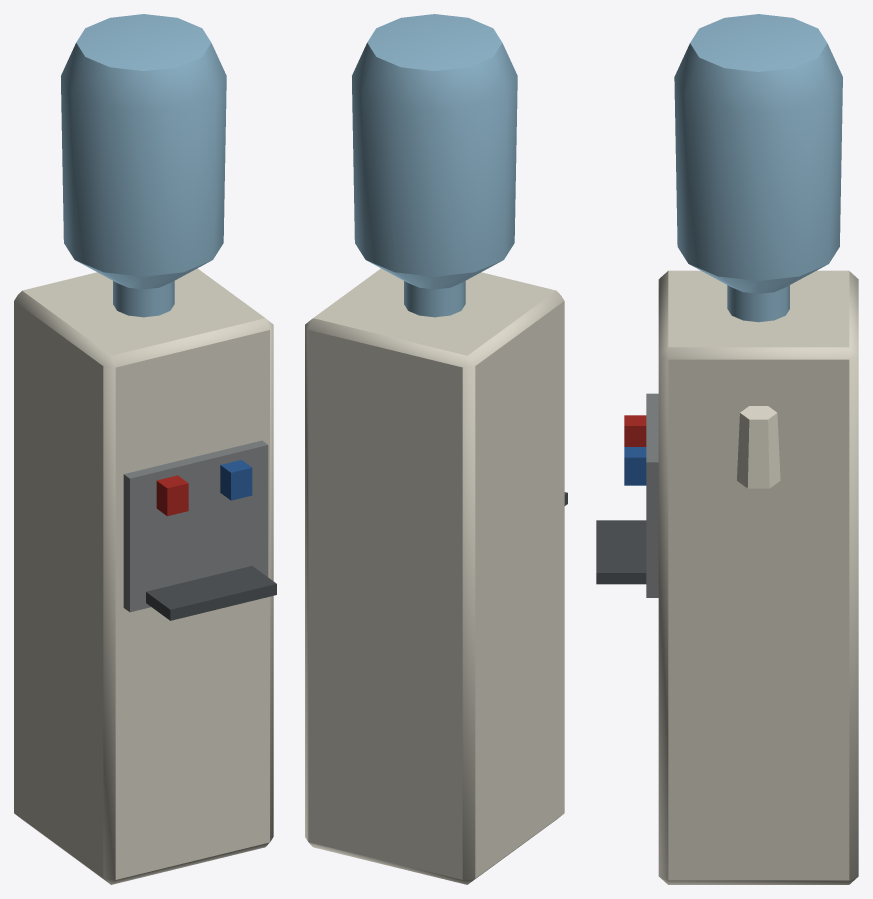
File: water_dispenser.glb
3 renders of one model, left to right at view 1: azimuth 30°, elevation 25°; view 2: azimuth 150°, elevation 25°; view 3: azimuth 270°, elevation 25°, orthographic.
Parts seen in each view (by area): view 1: Dispenser; view 2: Dispenser; view 3: Dispenser.
Boxes of the visible parts, bbox=[...] form: Dispenser: bbox=[14, 14, 276, 884]; Dispenser: bbox=[305, 14, 567, 884]; Dispenser: bbox=[596, 14, 858, 884].
Bounding box in the file's own units: 0.3903 × 1.43 × 0.42.
